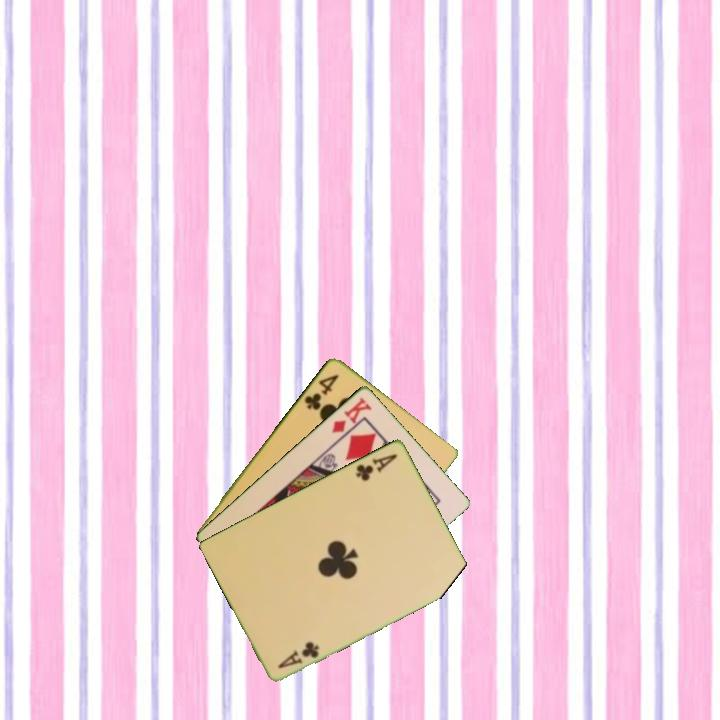4c: (301, 370, 341, 413)
Ac: (352, 450, 401, 484), (274, 637, 322, 671)
Kd: (328, 393, 374, 436)
